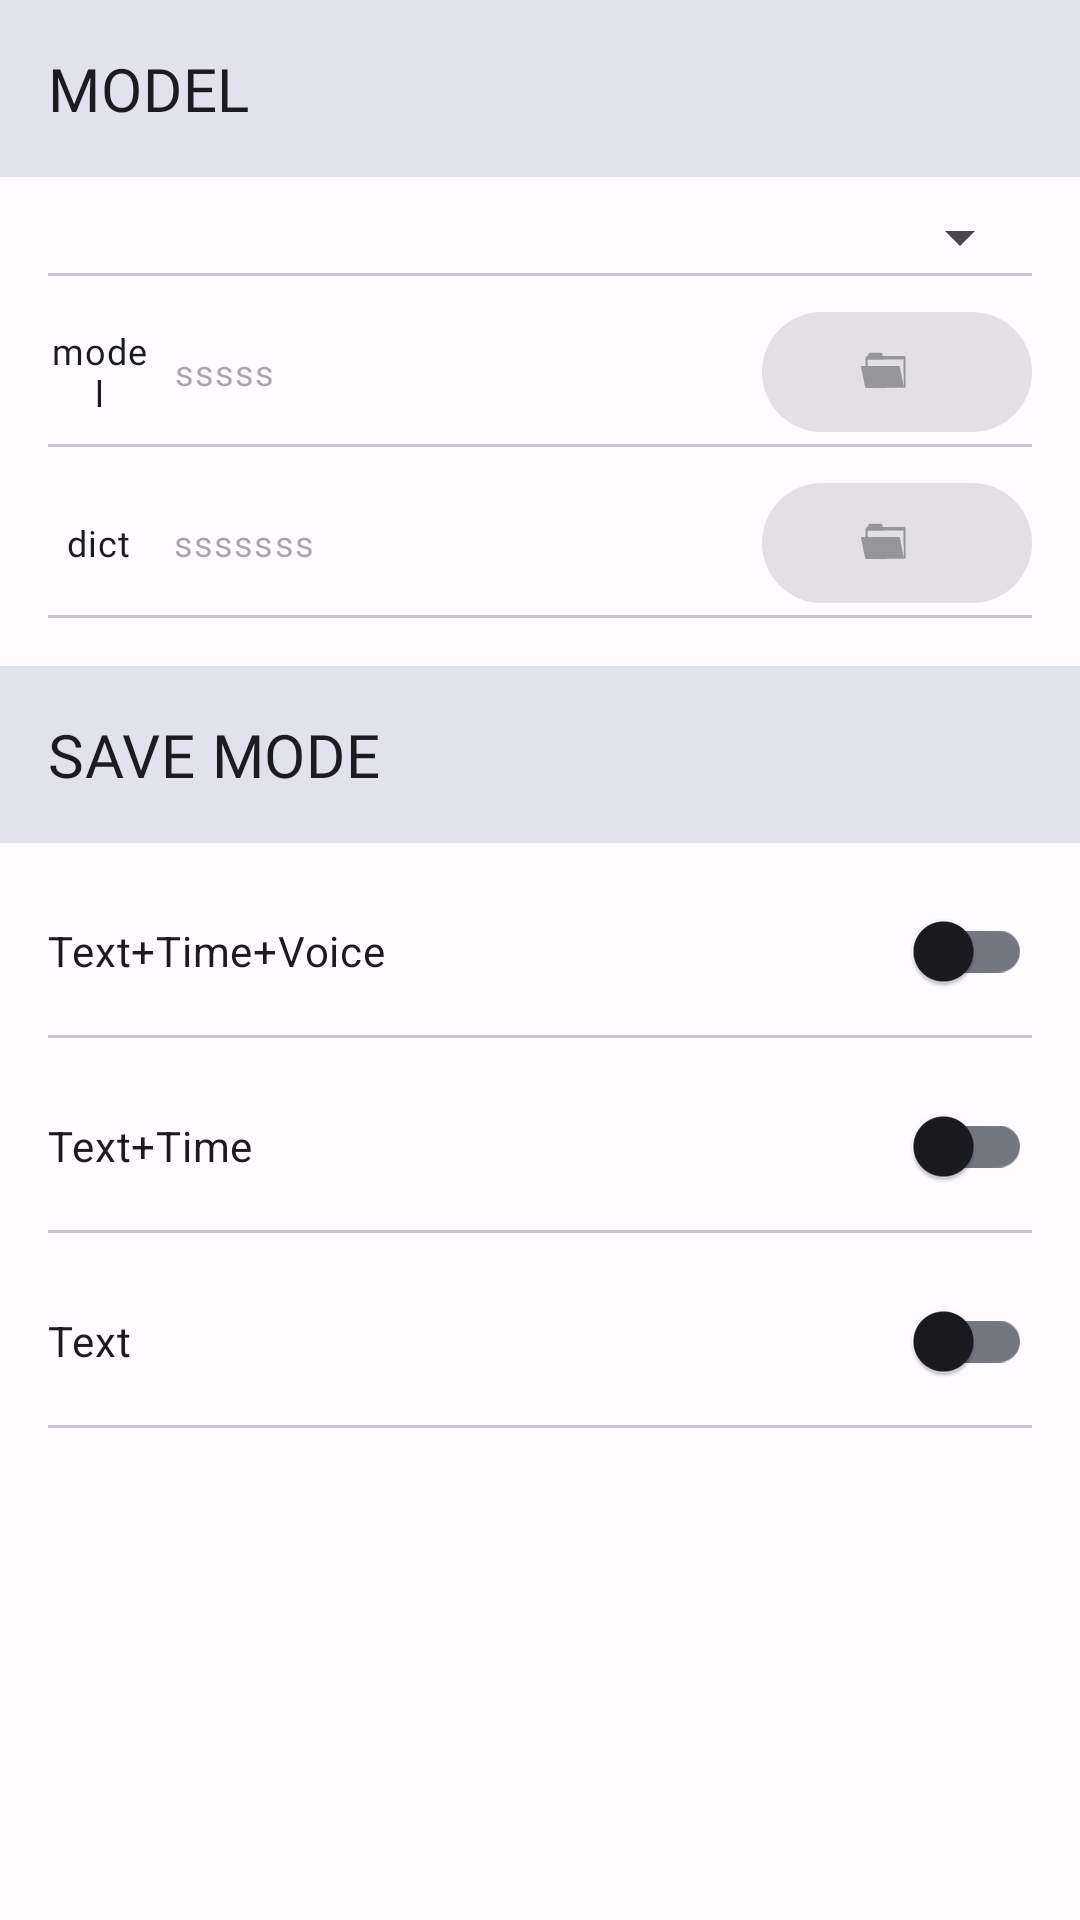

Icons on this 1080px x 1920px Android screen, each with its box as region(x1, y1, x2, y2):
folder: region(762, 312, 1032, 432), region(762, 483, 1032, 603)
